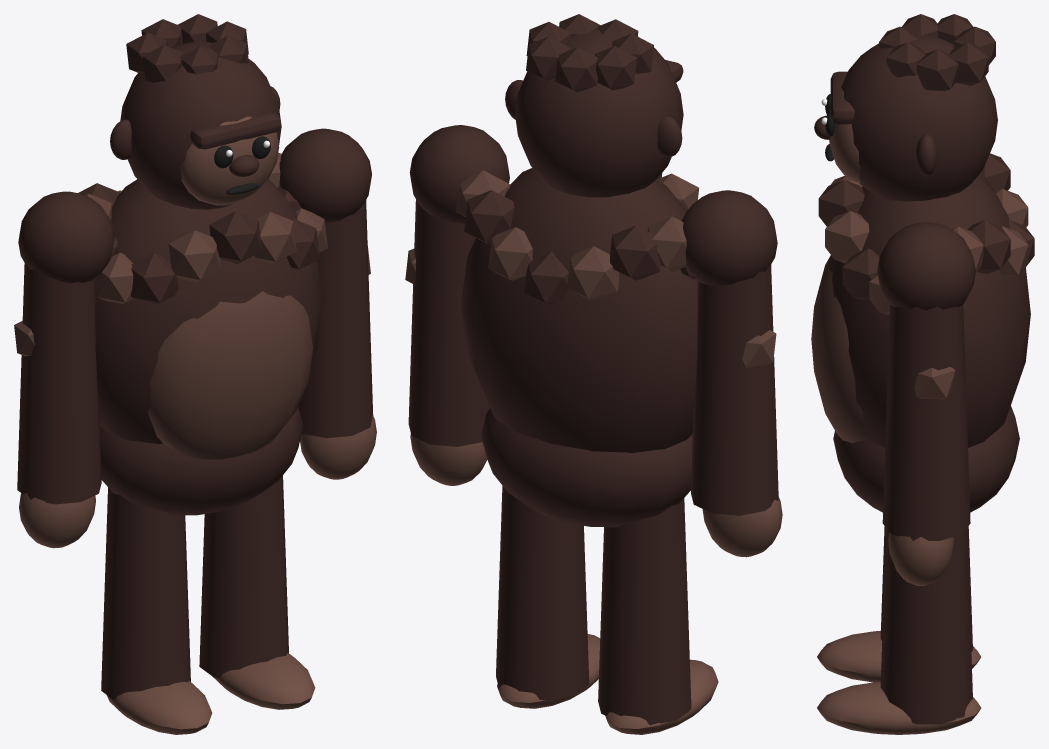
The model's file is cameos_sasquatch.glb.
3 renders of one model, left to right at view 1: azimuth 30°, elevation 25°; view 2: azimuth 150°, elevation 25°; view 3: azimuth 270°, elevation 25°, orthographic. The views are drawn at different scales.
Parts seen in each view (by area): view 1: Body.003, Arm_R.003, Arm_L.003, Leg_R.003, Leg_L.003; view 2: Body.003, Arm_R.003, Arm_L.003, Leg_R.003, Leg_L.003; view 3: Body.003, Arm_L.003, Leg_L.003, Leg_R.003.
Boxes of the visible parts, left/top/right/bottom form: Body.003: left=78, top=14, right=327, bottom=515; Arm_R.003: left=14, top=191, right=114, bottom=548; Arm_L.003: left=279, top=128, right=376, bottom=479; Leg_R.003: left=101, top=487, right=212, bottom=734; Leg_L.003: left=199, top=475, right=315, bottom=709; Body.003: left=455, top=14, right=698, bottom=527; Arm_R.003: left=681, top=190, right=782, bottom=557; Arm_L.003: left=405, top=125, right=509, bottom=485; Leg_R.003: left=598, top=498, right=718, bottom=734; Leg_L.003: left=496, top=486, right=600, bottom=708; Body.003: left=811, top=14, right=1034, bottom=512; Arm_L.003: left=877, top=222, right=975, bottom=586; Leg_L.003: left=817, top=528, right=981, bottom=734; Leg_R.003: left=817, top=526, right=981, bottom=682.
Bounding box in the file's own units: 1.5 × 2.7 × 0.8136.
